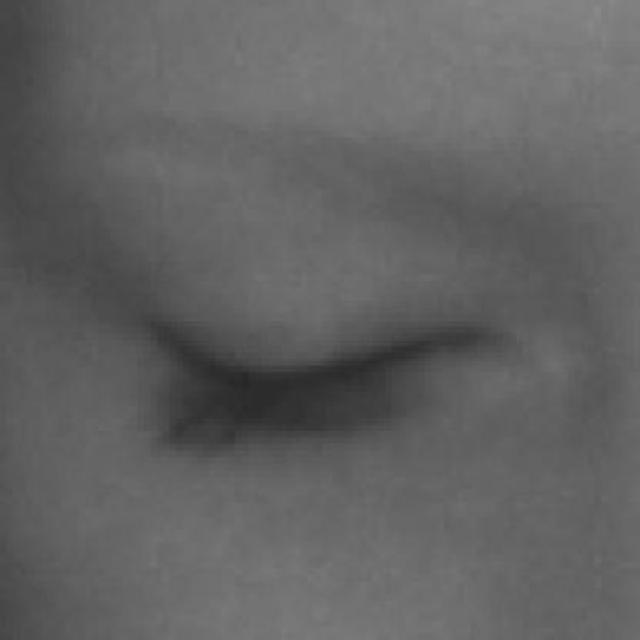drowsy: (131, 195, 503, 554)
